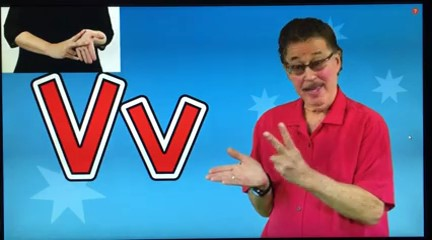V: (40, 22, 111, 67)
